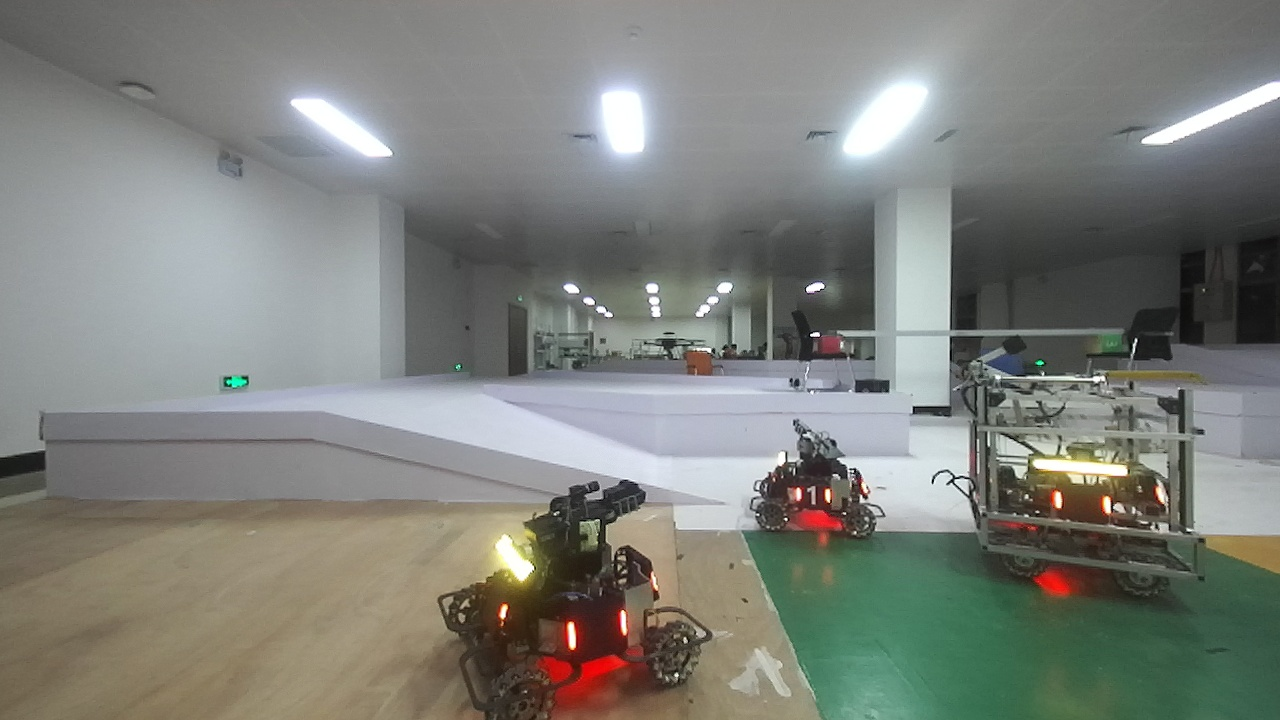car: (971, 330, 1224, 609), (443, 499, 691, 698), (744, 430, 879, 559)
